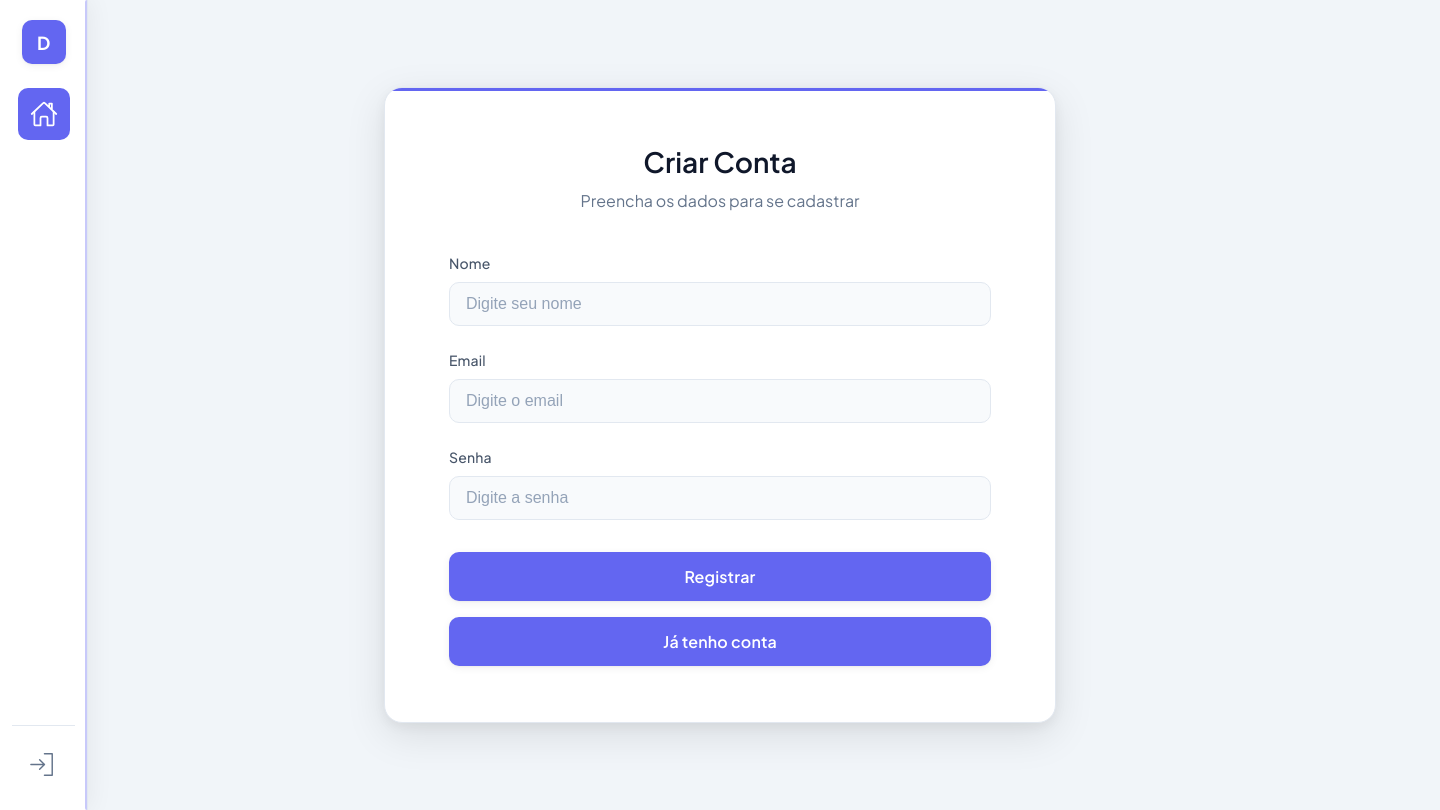
Test: Register Page › should not redirect to the home page without name
The image size is (1440, 810).
In the field with placeholder "Digite o email": (720, 401) [449,379,991,423], type "gui@gmail.com"
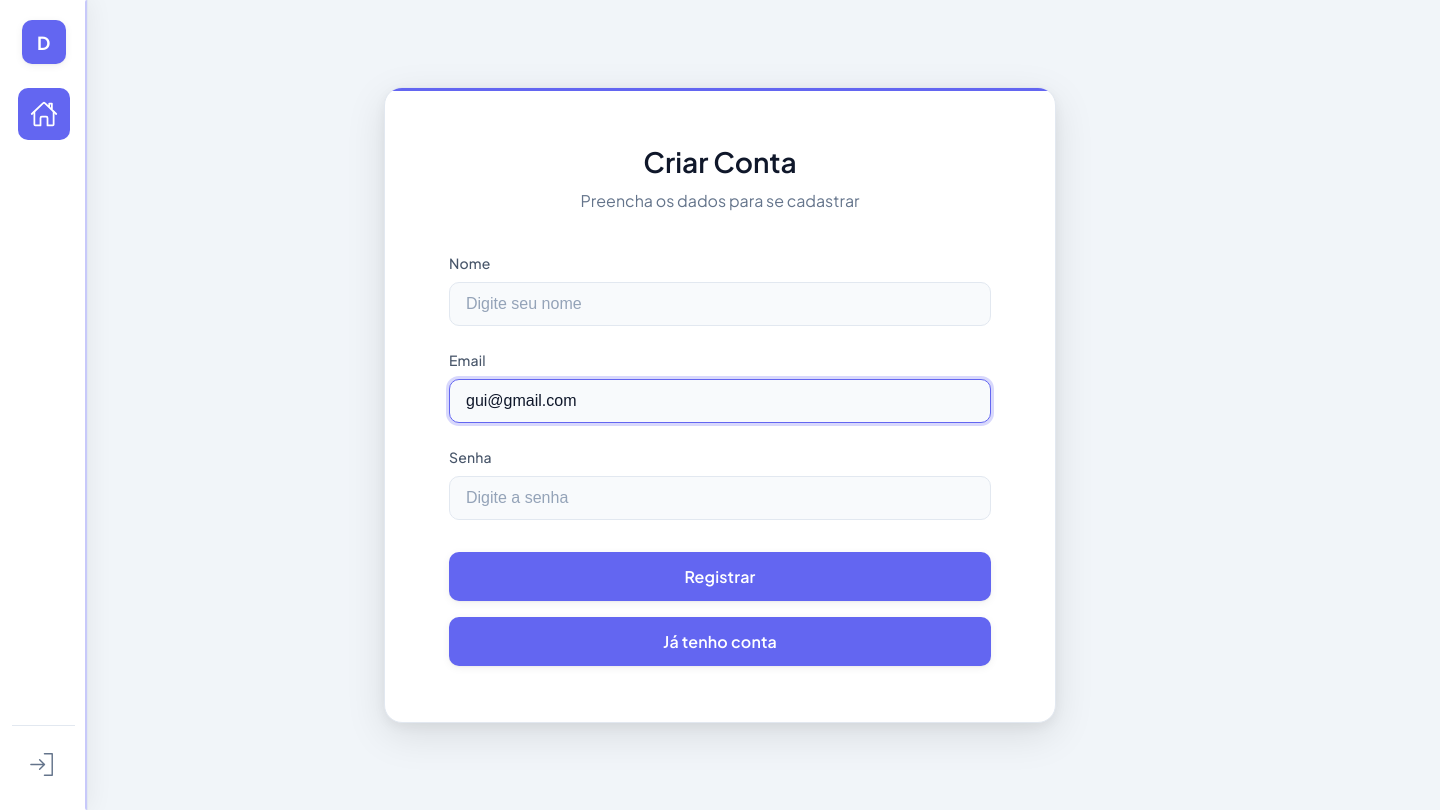
In the password field with placeholder "Digite a senha": (720, 498) [449,476,991,520], type "123456"
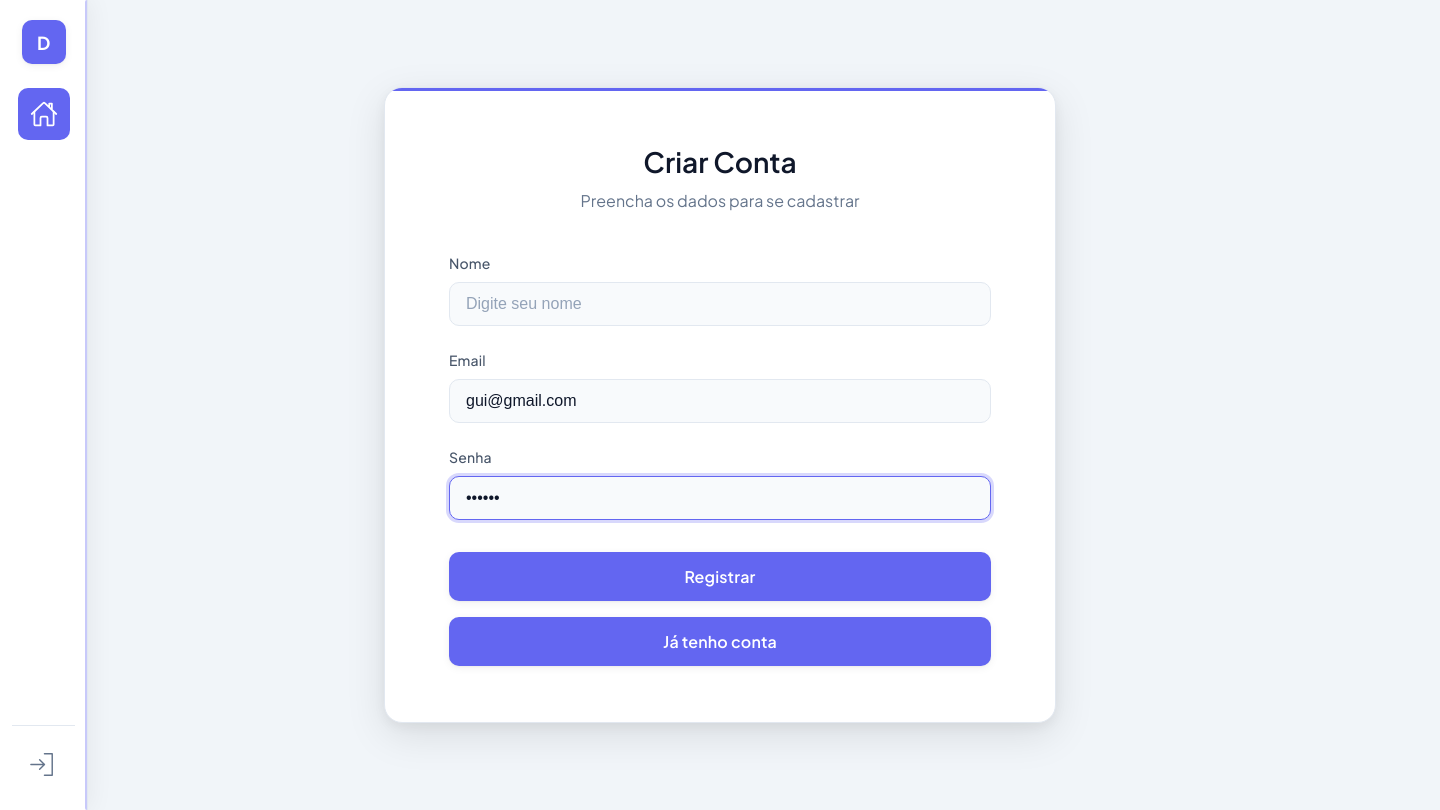
Click the button "Registrar": (720, 576) [449,552,991,601]
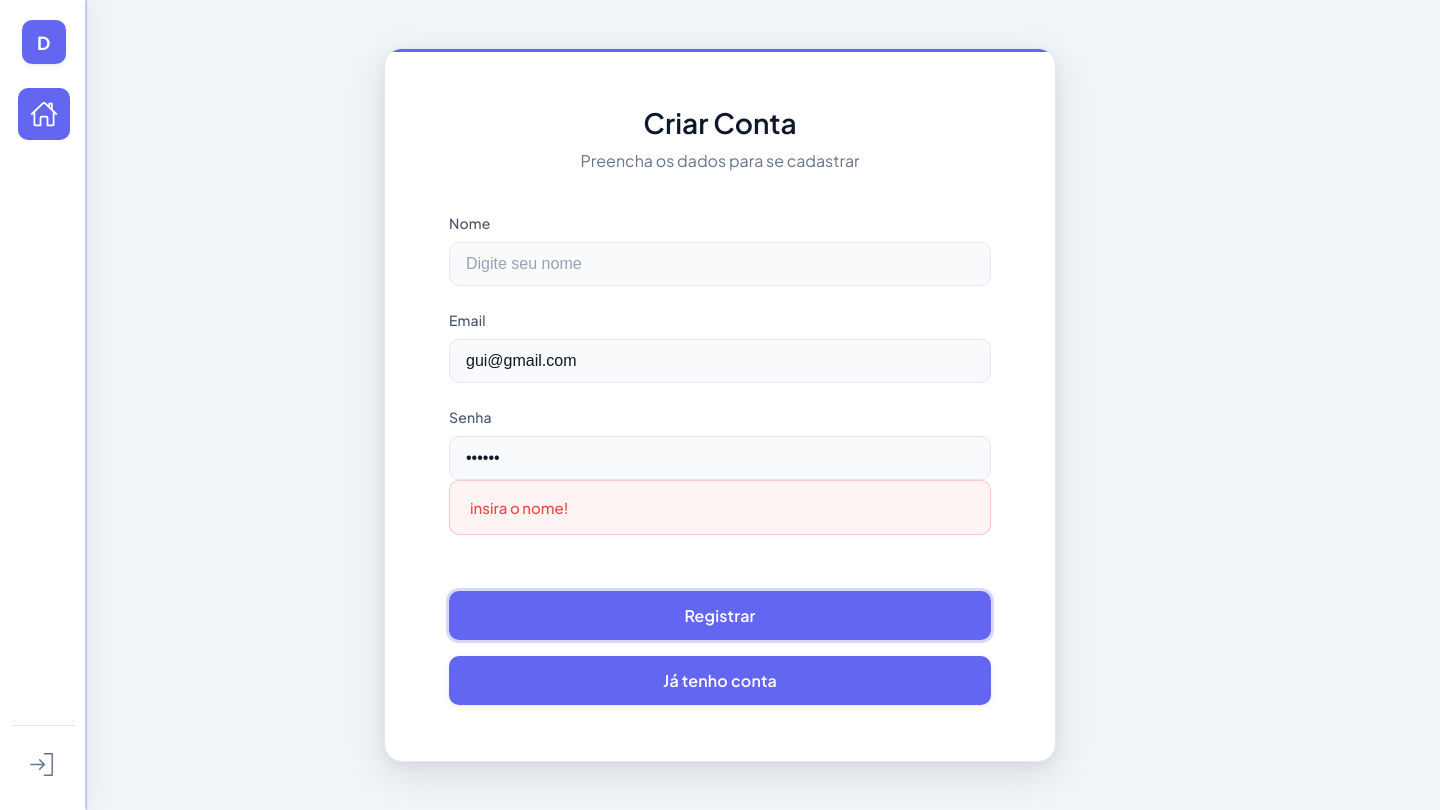
Expected: the text "insira o nome!" is shown, [449,480,991,535]
